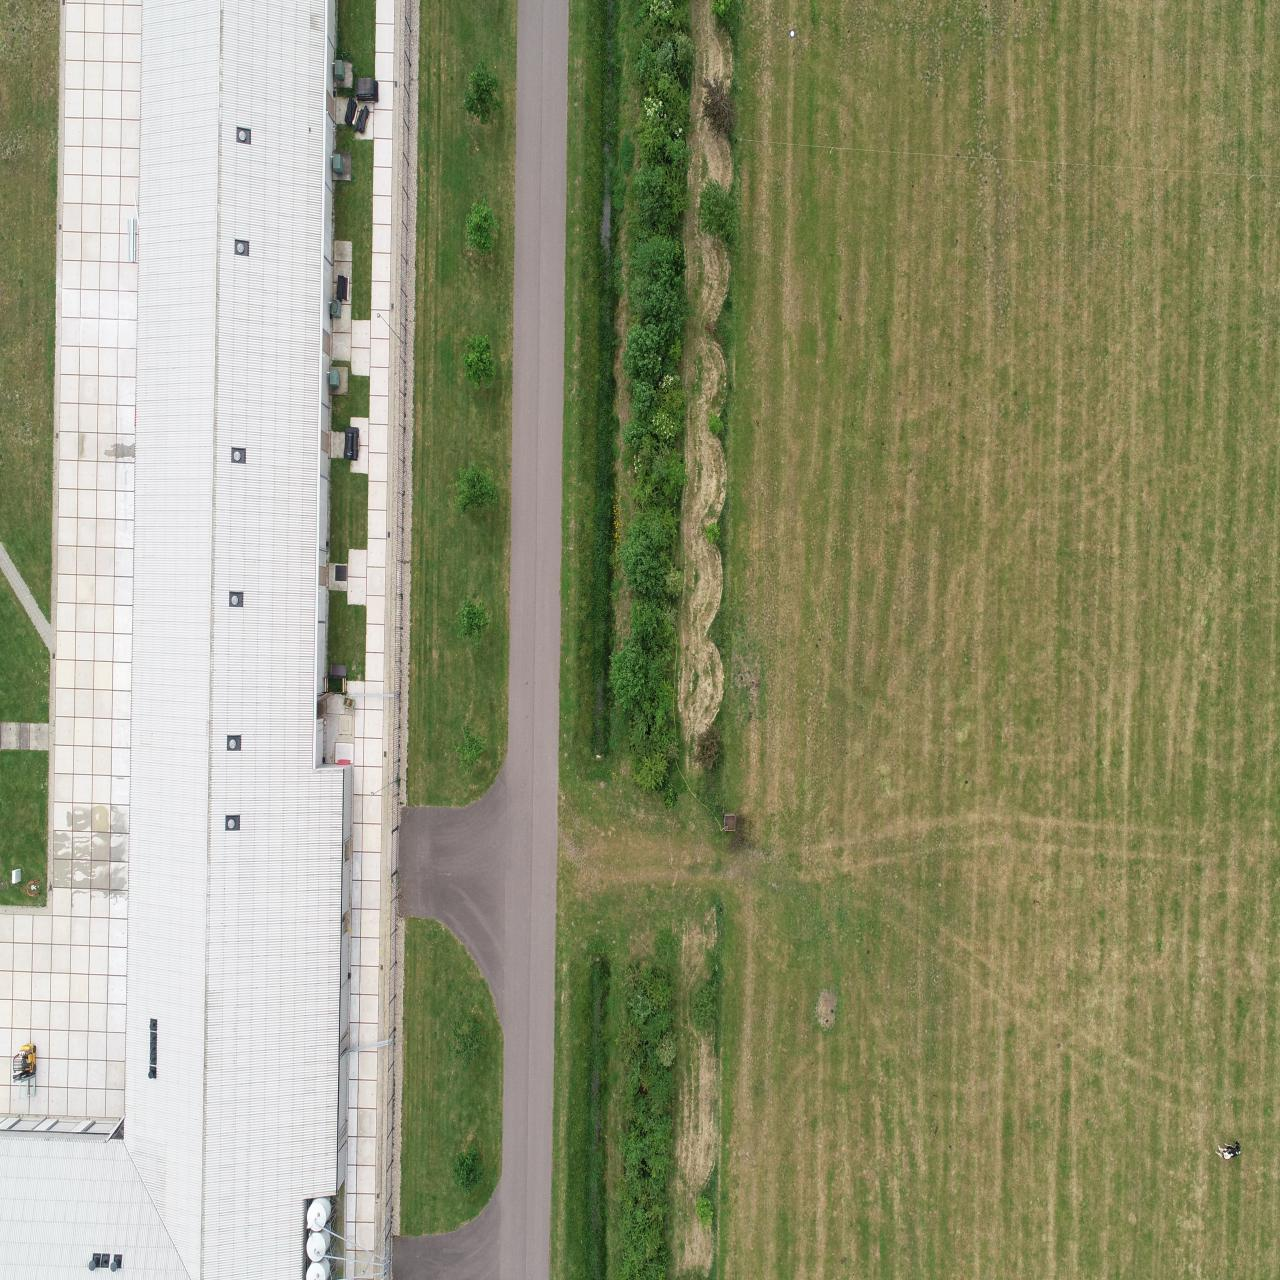cow: (1214, 1138, 1242, 1161)
